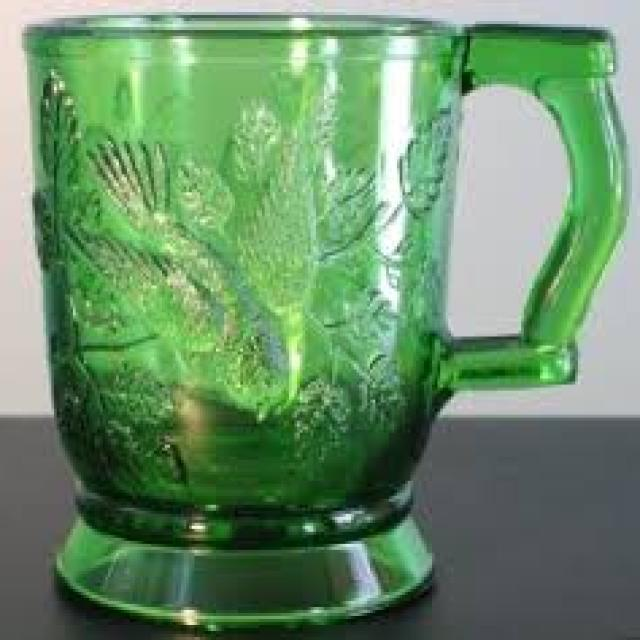glass: (19, 12, 626, 619)
